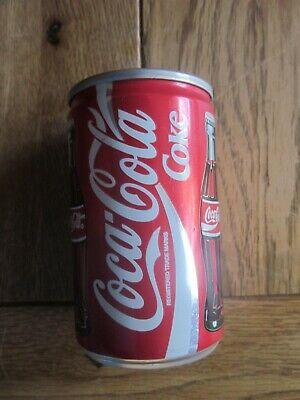metal: (69, 68, 224, 368)
